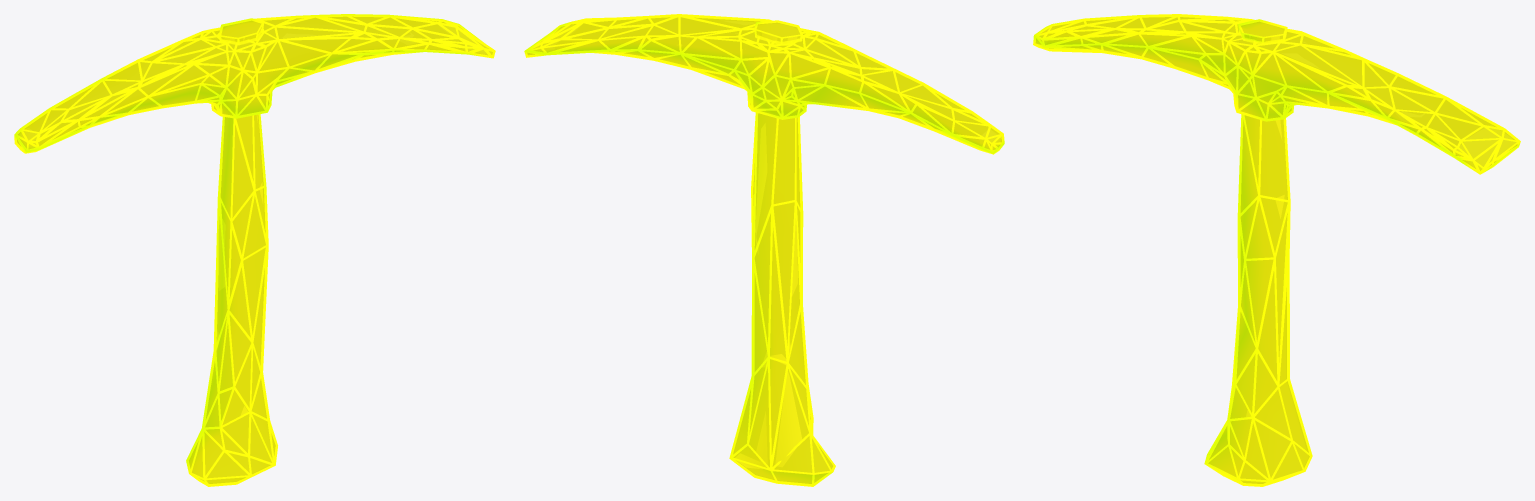
The model's file is pickaxe-iron.glb.
3 views of the same model, side by side, from view 1: azimuth 30°, elevation 25°; view 2: azimuth 150°, elevation 25°; view 3: azimuth 330°, elevation 25° (orthographic).
Visible parts, largest first — view 1: glow, wire; view 2: glow, wire, iron-pickaxe; view 3: glow, wire.
Part boxes in pixels (x1,y1,x2,y2): glow: (14, 14, 495, 486); wire: (15, 15, 494, 485); glow: (524, 14, 1004, 486); wire: (525, 15, 1003, 485); iron-pickaxe: (736, 33, 801, 468); glow: (1033, 14, 1520, 486); wire: (1034, 15, 1519, 485).
Bounding box in the file's own units: 1.1 × 1.03 × 0.161.
